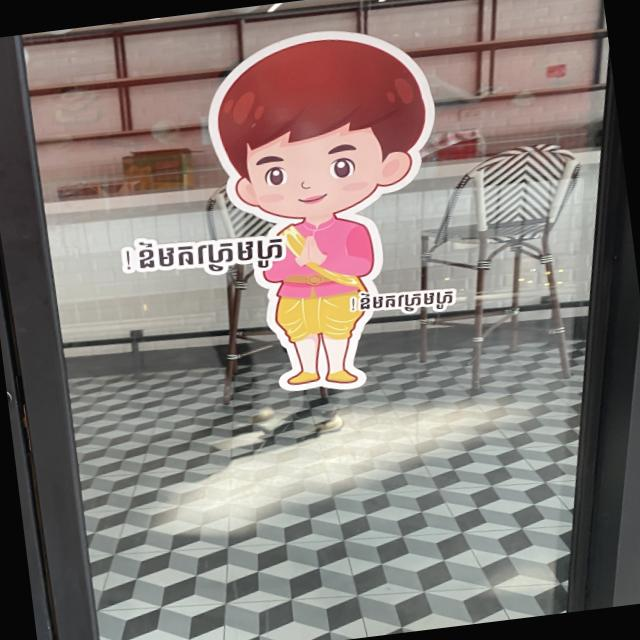Yolov11kh: (114, 231, 290, 284), (347, 285, 459, 317)
